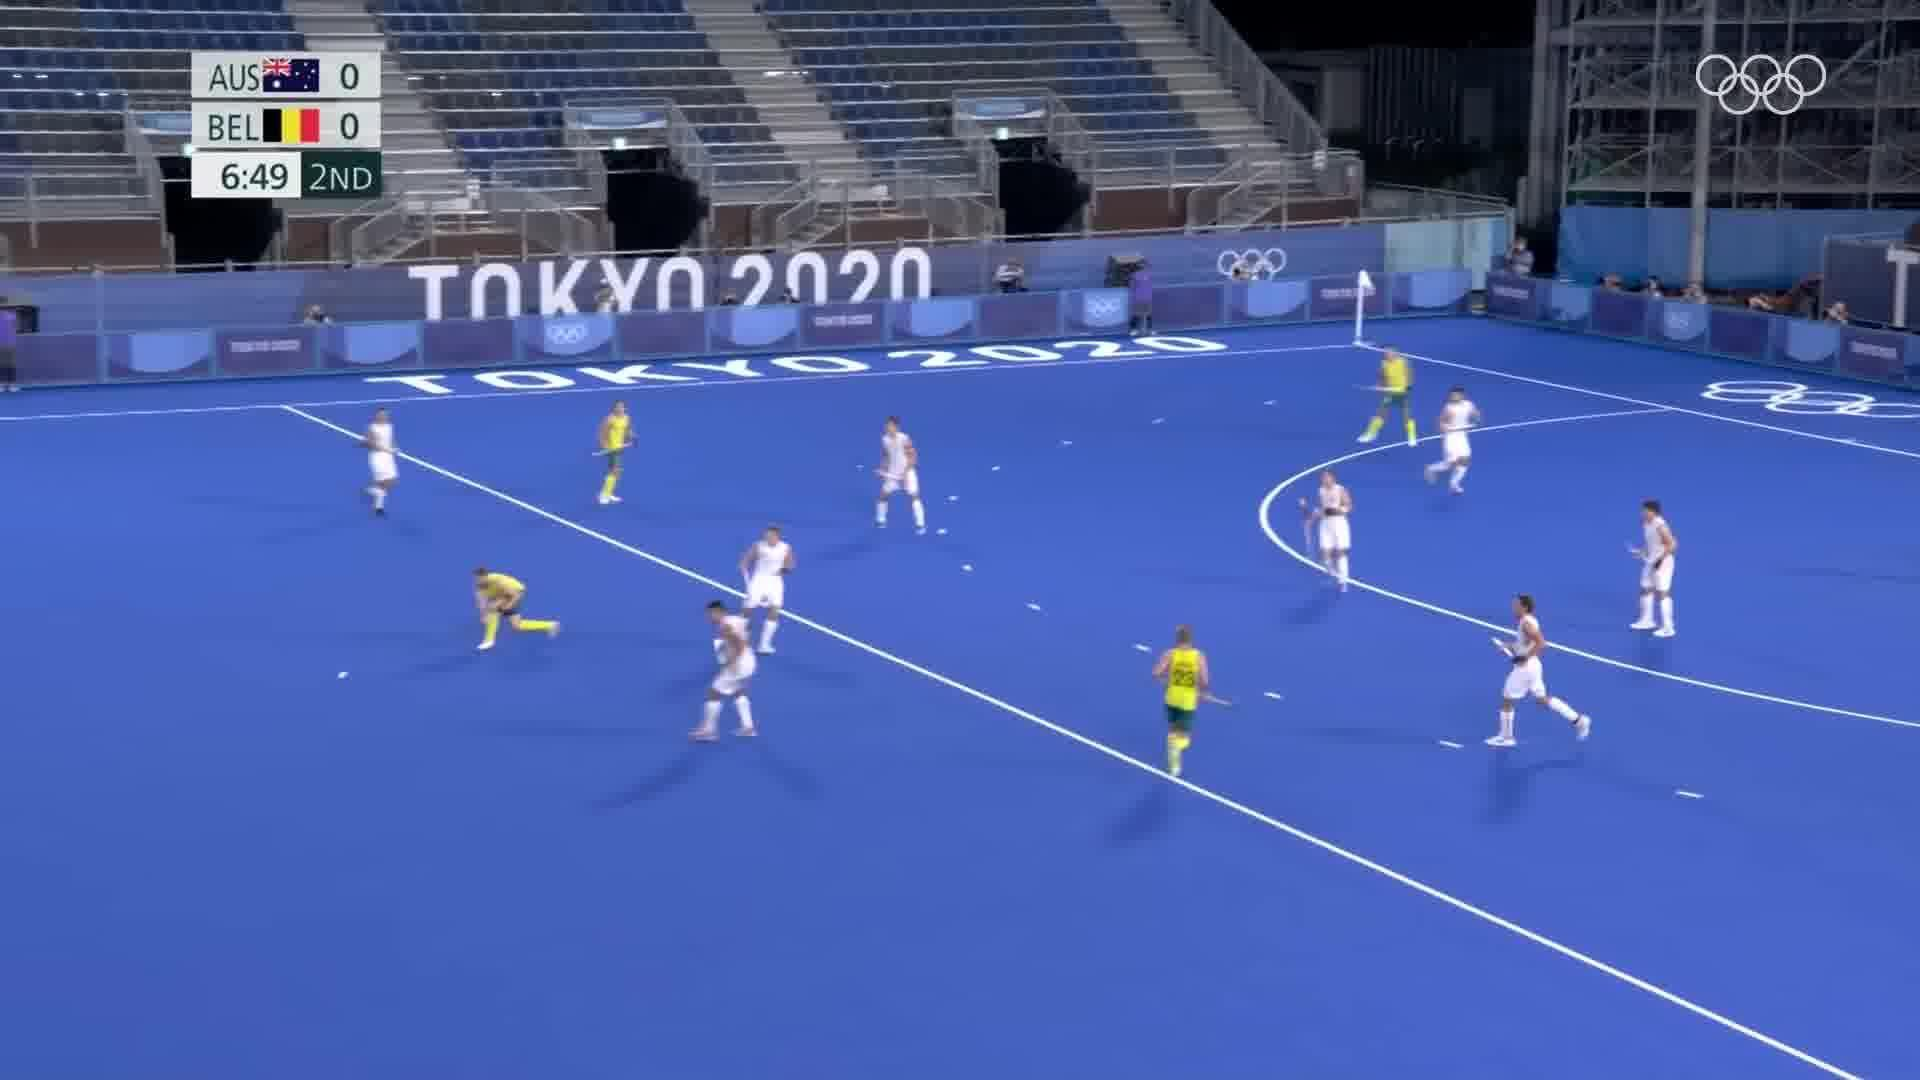ball: (332, 663, 353, 683)
